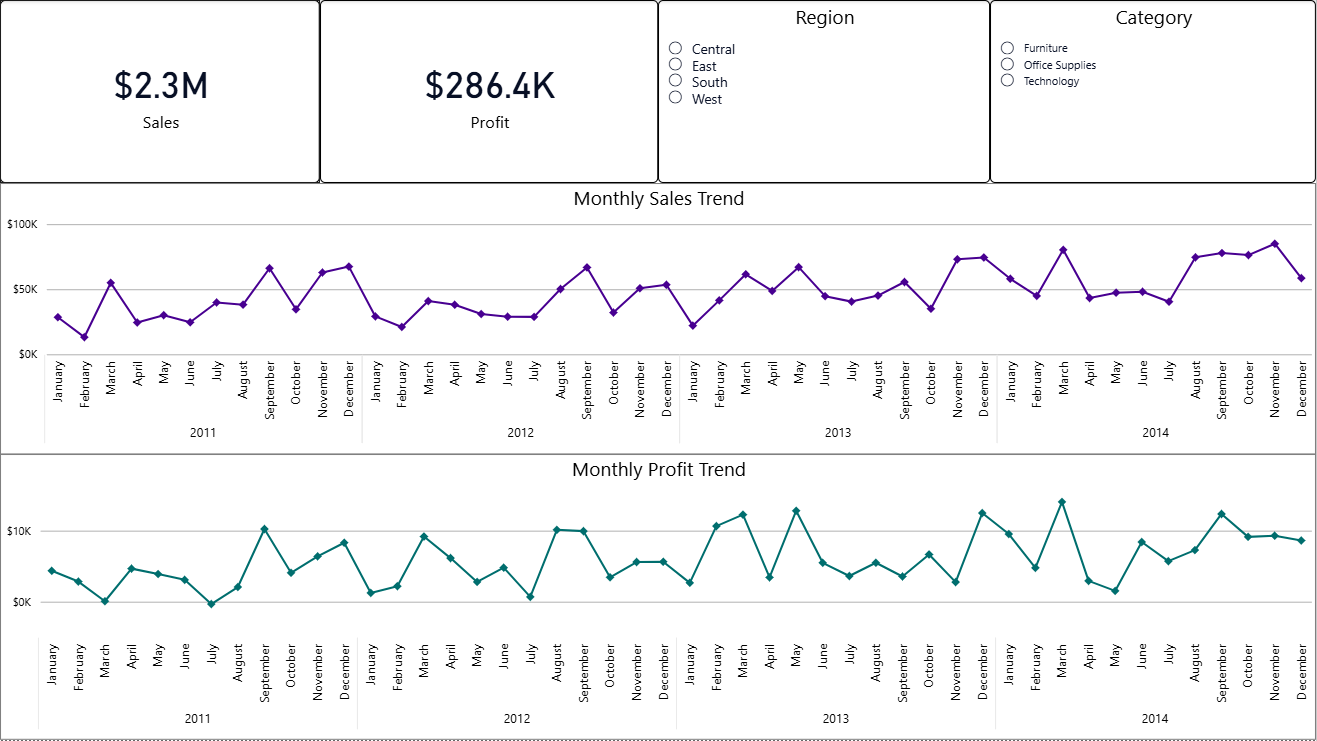

What the dashboard file says about the page in this screenshot:
{"tool":"powerbi","page":{"name":"Sales Trends","canvas":[1280,720],"ordinal":1},"visuals":[{"type":"lineChart","title":"Monthly Sales Trend","fields":{"Y":["Sum(Superstore.Sales)"],"Category":["Superstore.order_date.Variation.Date Hierarchy.Year","Superstore.order_date.Variation.Date Hierarchy.Month"]},"box":[0,178,1280,263.6],"z":0},{"type":"lineChart","title":"Monthly Profit Trend","fields":{"Y":["Sum(Superstore.Profit)"],"Category":["Superstore.order_date.Variation.Date Hierarchy.Year","Superstore.order_date.Variation.Date Hierarchy.Month"]},"box":[0,441.6,1280,278.2],"z":1000},{"type":"listSlicer","fields":{"Values":["Superstore.Region"]},"box":[640,0,322.9,178],"z":2000},{"type":"listSlicer","fields":{"Values":["Superstore.Category"]},"box":[962.9,0,317.1,178],"z":3000},{"type":"card","fields":{"Values":["Sum(Superstore.Profit)"]},"box":[311.2,0,328.8,178],"z":4000},{"type":"card","fields":{"Values":["Sum(Superstore.Sales)"]},"box":[0,0,311.2,178],"z":5000}]}

Visuals, with their boxes in screenshot pixels (x1, y1, x2, y2), scaled from the page's 1280x720 canvas onto the 1317x741 screenshot:
"Monthly Sales Trend" lineChart: crop(0, 183, 1316, 454)
"Monthly Profit Trend" lineChart: crop(0, 454, 1316, 740)
listSlicer - Superstore.Region: crop(658, 0, 991, 183)
listSlicer - Superstore.Category: crop(991, 0, 1316, 183)
card - Sum(Superstore.Profit): crop(320, 0, 658, 183)
card - Sum(Superstore.Sales): crop(0, 0, 320, 183)
